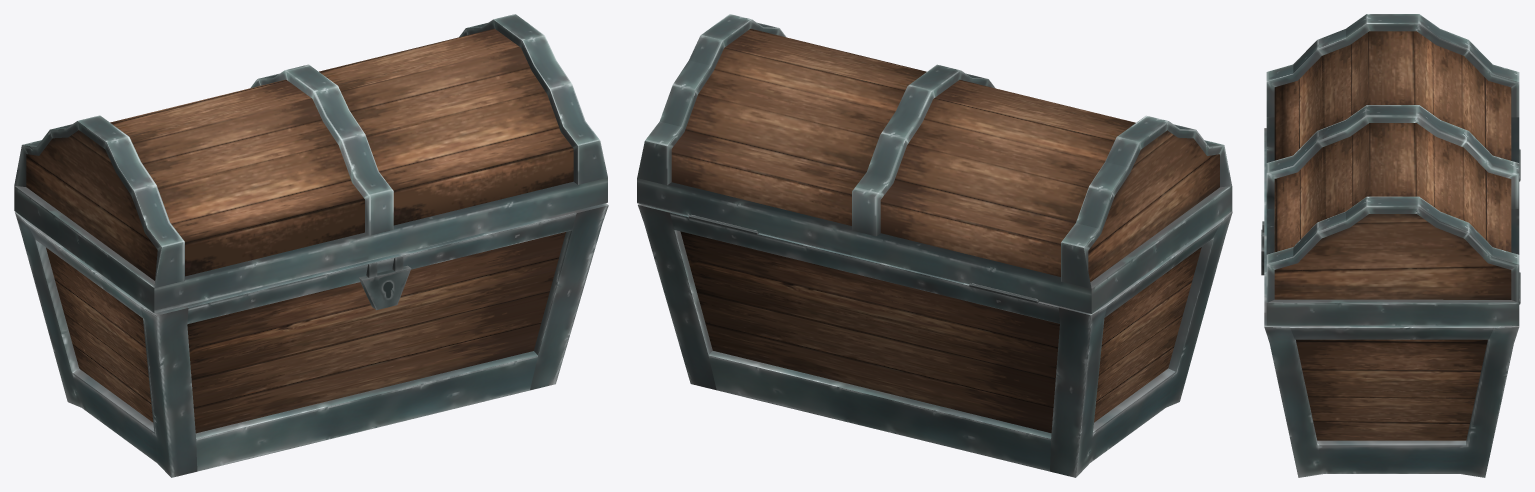
Rendered from chest_007.FBX.
3 views of the same model, side by side, from view 1: azimuth 30°, elevation 25°; view 2: azimuth 150°, elevation 25°; view 3: azimuth 270°, elevation 25° (orthographic). The views are drawn at different scales.
Visible parts, largest first — view 1: chest, chest_0072; view 2: chest, chest_0072; view 3: chest, chest_0072.
Boxes of the visible parts, bbox=[...] form: chest: bbox=[14, 14, 607, 313]; chest_0072: bbox=[15, 203, 608, 477]; chest: bbox=[637, 14, 1232, 313]; chest_0072: bbox=[638, 203, 1232, 477]; chest: bbox=[1266, 14, 1519, 325]; chest_0072: bbox=[1261, 128, 1520, 477].
Size of the model in its own units: 23.3 by 15.33 by 12.72.
